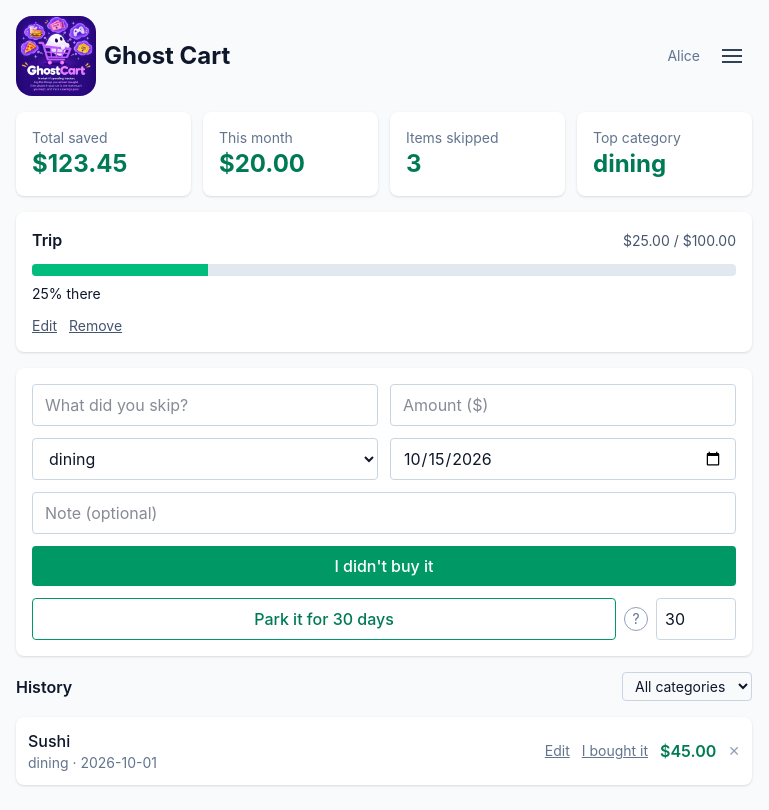
Scenario: App › offers Undo after removing a goal and restores it
Click the button "Remove" at [96, 326], box [69, 316, 122, 336]
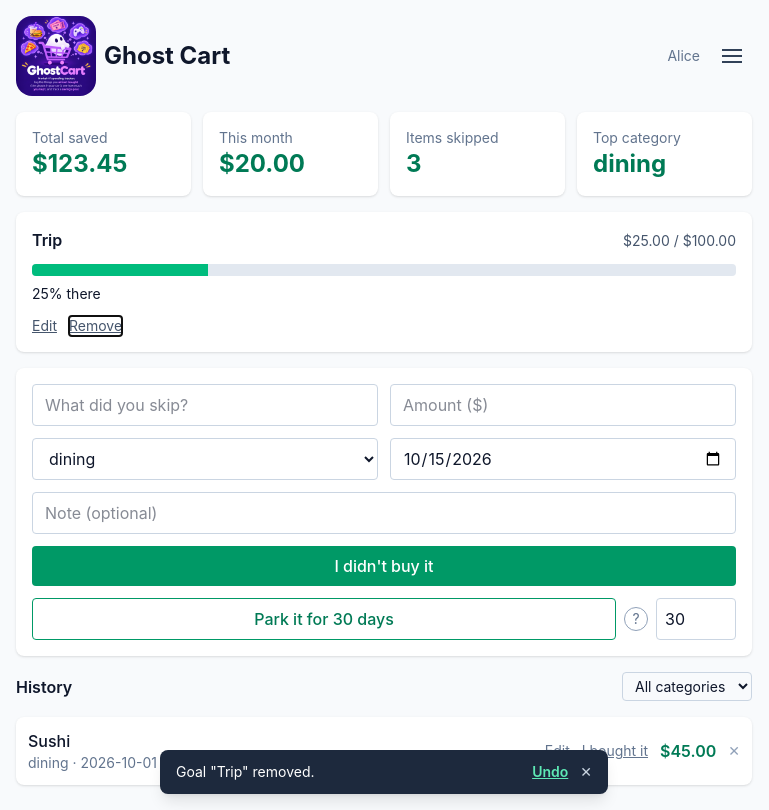
Result: the text "Goal \"Trip\" removed." is shown at [176, 762, 314, 782]
Click the button "Undo" at [550, 772], box [532, 762, 568, 782]
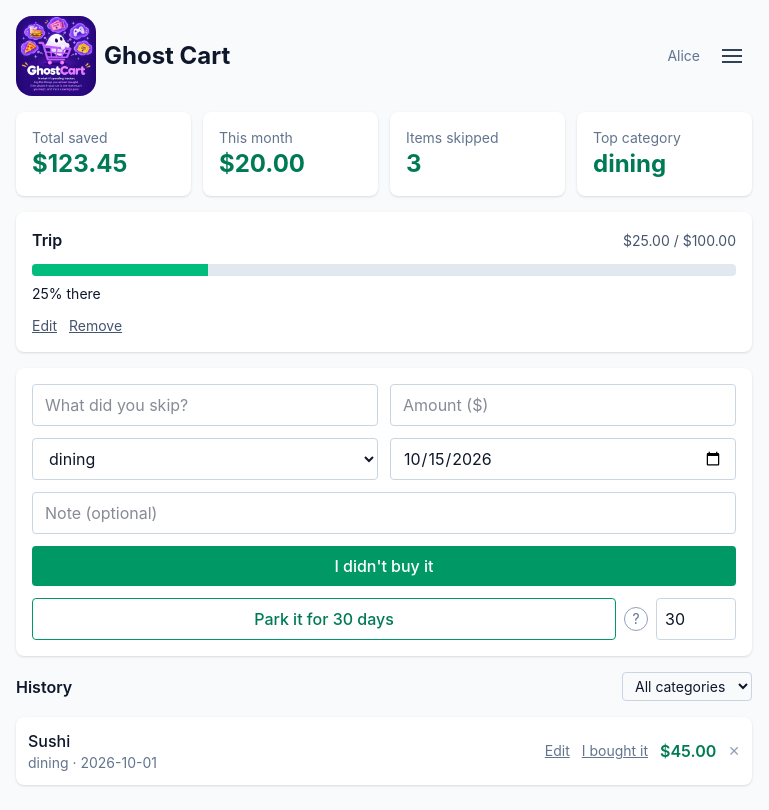
Result: the text "Goal \"Trip\" removed." is gone
